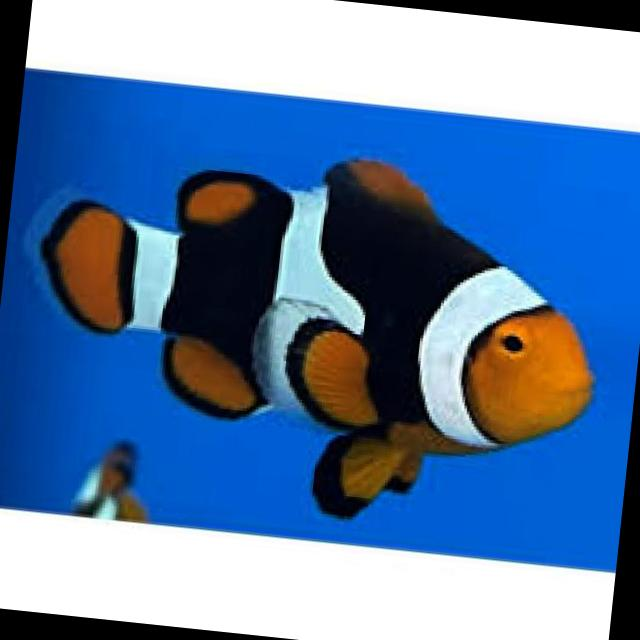ClownFish: (10, 128, 612, 548)
